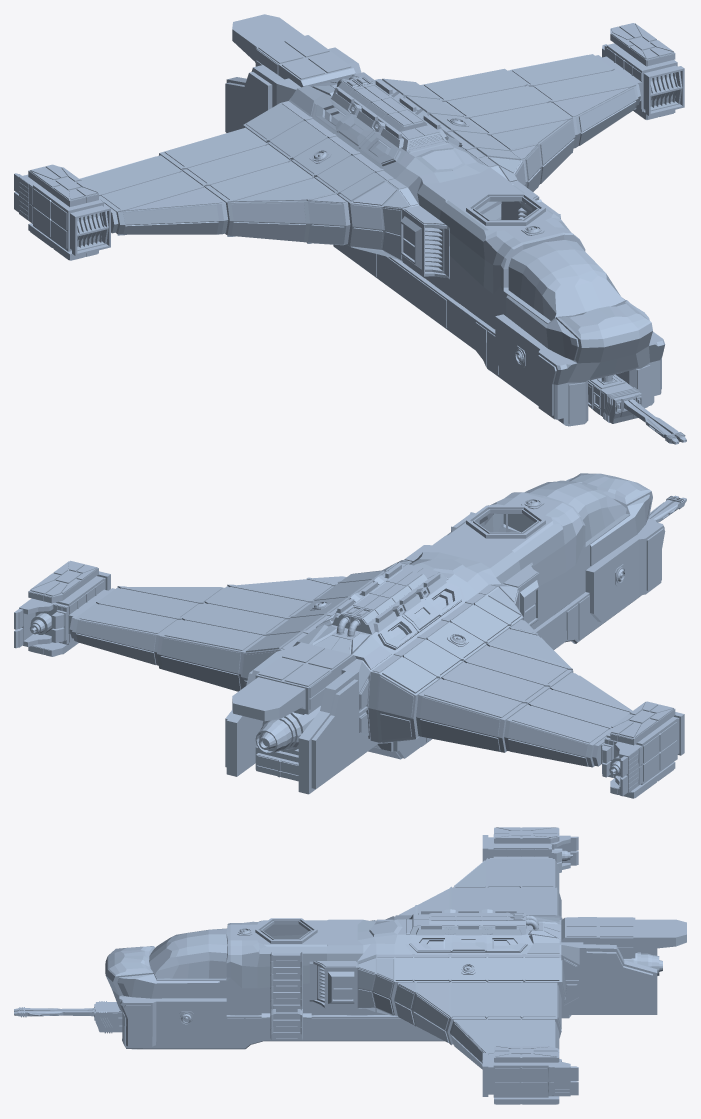
File: spacebomber.obj
3 renders of one model, top to bottom at view 1: azimuth 30°, elevation 25°; view 2: azimuth 150°, elevation 25°; view 3: azimuth 270°, elevation 25°, orthographic. The views are drawn at different scales.
Visible parts, largest first — view 1: ship_wip_015; view 2: ship_wip_015; view 3: ship_wip_015.
Boxes of the visible parts, x1,y1,x2,y2 form: ship_wip_015: (14, 14, 686, 444); ship_wip_015: (14, 473, 686, 798); ship_wip_015: (14, 827, 686, 1104).
Size of the model in its own units: 14.87 by 3.56 by 18.19.
